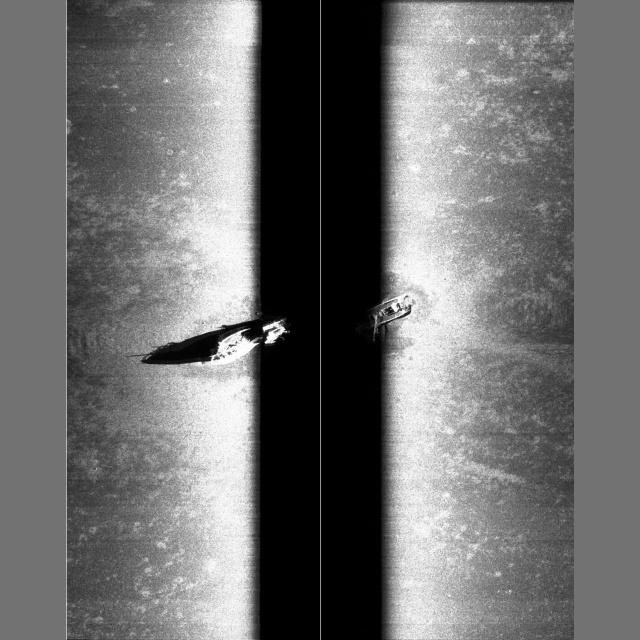Shipwreck: (209, 292, 412, 365)
